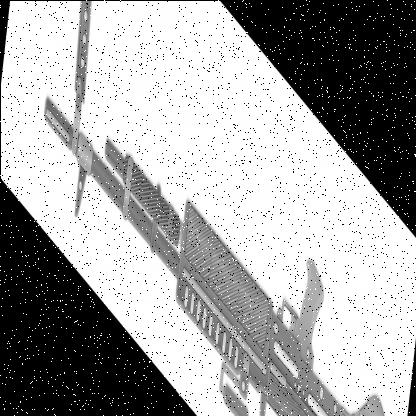rifle: (29, 0, 402, 416)
